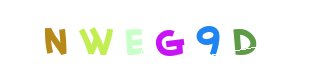9: (169, 0, 249, 80)
D: (203, 0, 283, 80)
E: (115, 0, 195, 80)
G: (129, 0, 209, 80)
N: (15, 0, 95, 80)
W: (60, 0, 140, 80)
